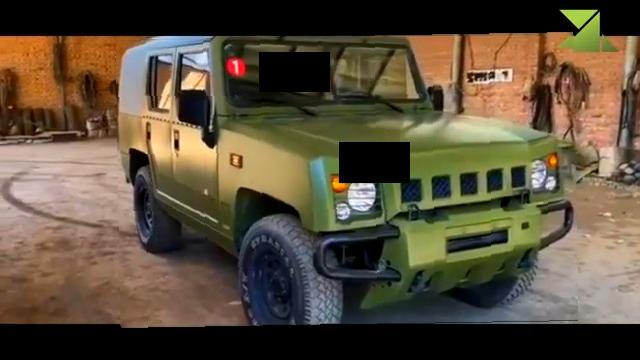MIL_HMMWV: (117, 34, 577, 327)
